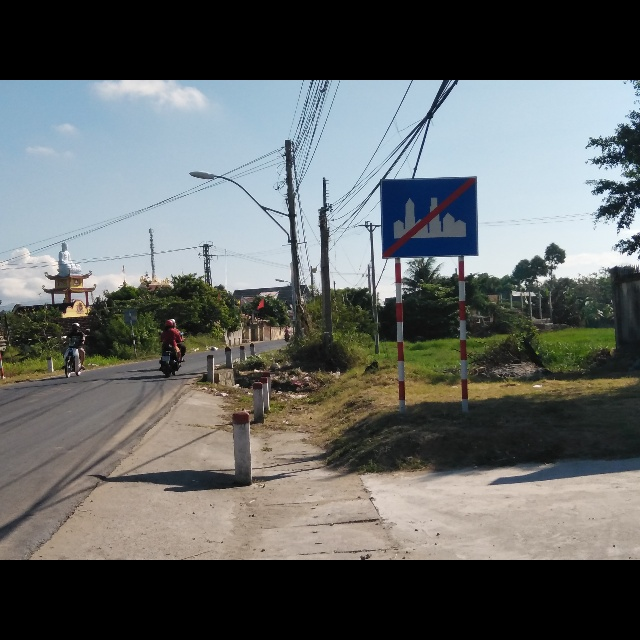Hết khu đông dân cư: (378, 177, 476, 257)
